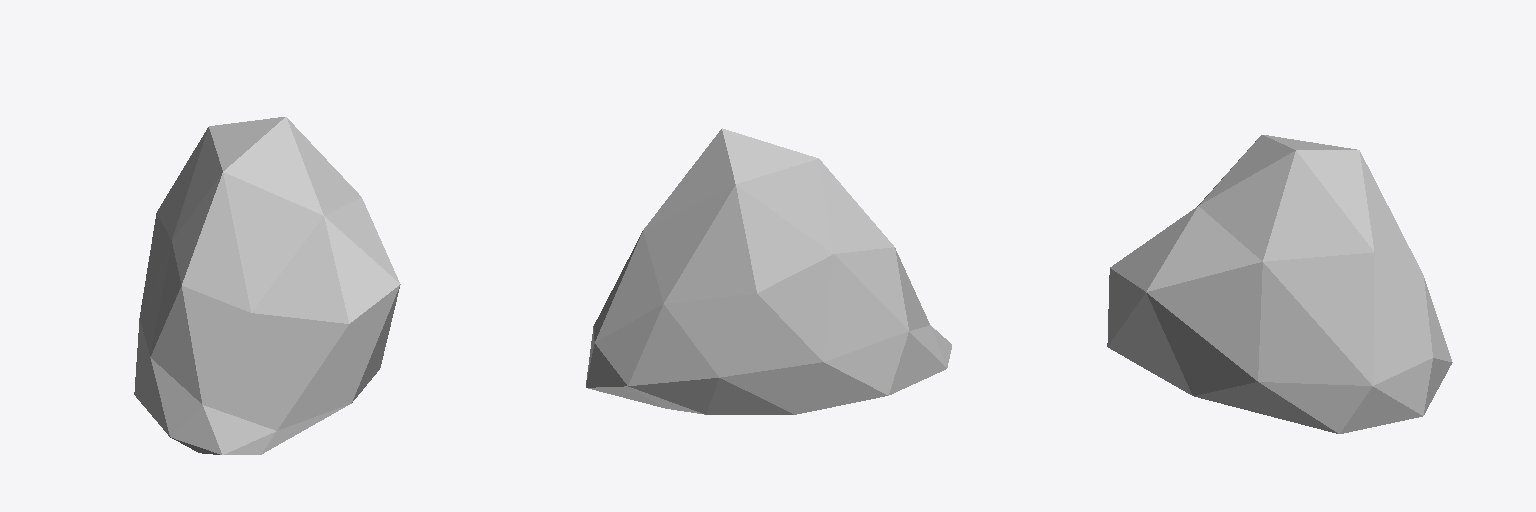
Rendered from Roca_pequeña_sin_nieve.obj.
The picture shows the model from 3 angles: view 1: azimuth 30°, elevation 25°; view 2: azimuth 150°, elevation 25°; view 3: azimuth 270°, elevation 25°; orthographic projection.
Visible parts, largest first — view 1: Object009; view 2: Object009; view 3: Object009.
Part boxes in pixels (left/top/right/bottom): Object009: left=134, top=117, right=400, bottom=454; Object009: left=586, top=128, right=951, bottom=414; Object009: left=1107, top=135, right=1452, bottom=433.
Size of the model in its own units: 10.22 by 9.16 by 11.52.